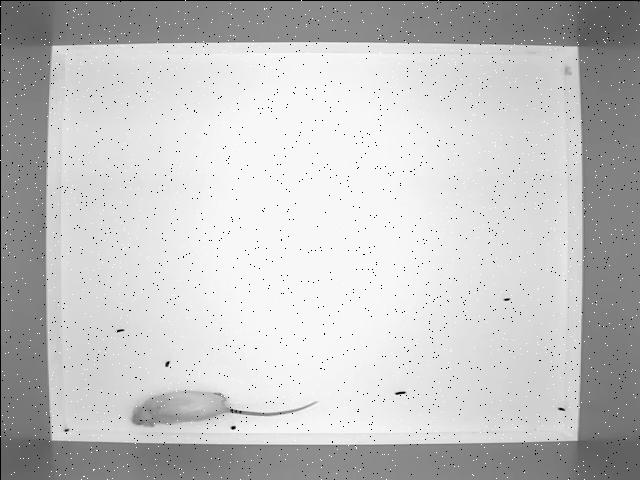Tikus: (128, 388, 316, 426)
